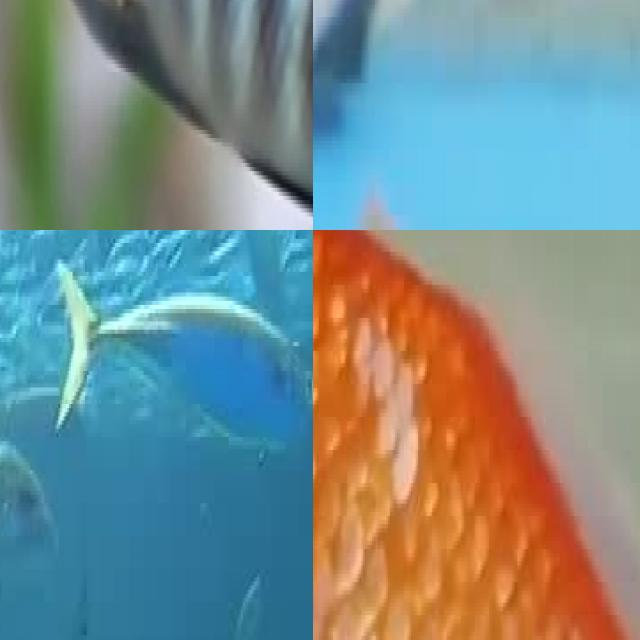fish: (313, 230, 640, 640), (313, 0, 640, 230), (0, 0, 313, 230), (51, 230, 313, 474)
